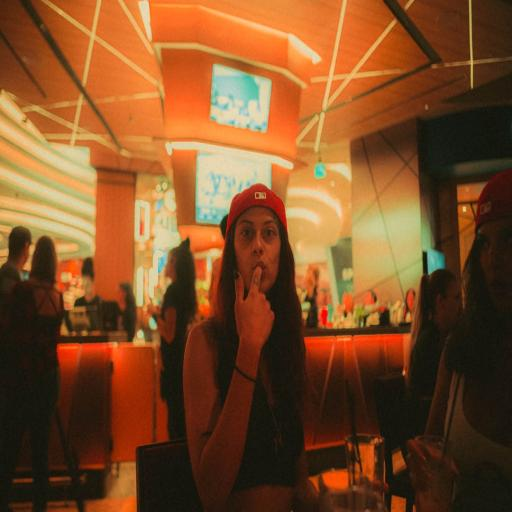face: (234, 207, 281, 292), (476, 217, 511, 312), (439, 281, 462, 329)
